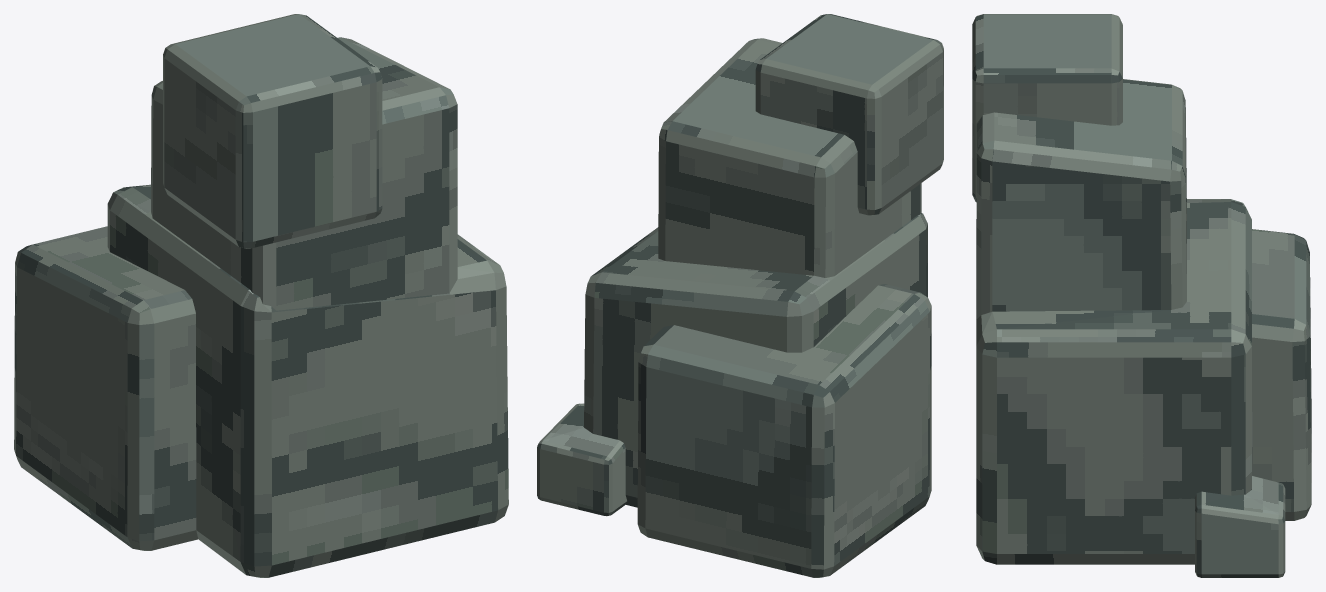
File: rock2.fbx
3 renders of one model, left to right at view 1: azimuth 30°, elevation 25°; view 2: azimuth 150°, elevation 25°; view 3: azimuth 270°, elevation 25°, orthographic. The views are drawn at different scales.
Visible parts, largest first — view 1: Cube.008; view 2: Cube.008; view 3: Cube.008.
Part boxes in pixels (left/top/right/bottom): Cube.008: left=14, top=14, right=508, bottom=577; Cube.008: left=537, top=14, right=943, bottom=577; Cube.008: left=972, top=14, right=1311, bottom=577.
Size of the model in its own units: 213 by 283 by 197.
Materials: 1 (1 with a texture image).
